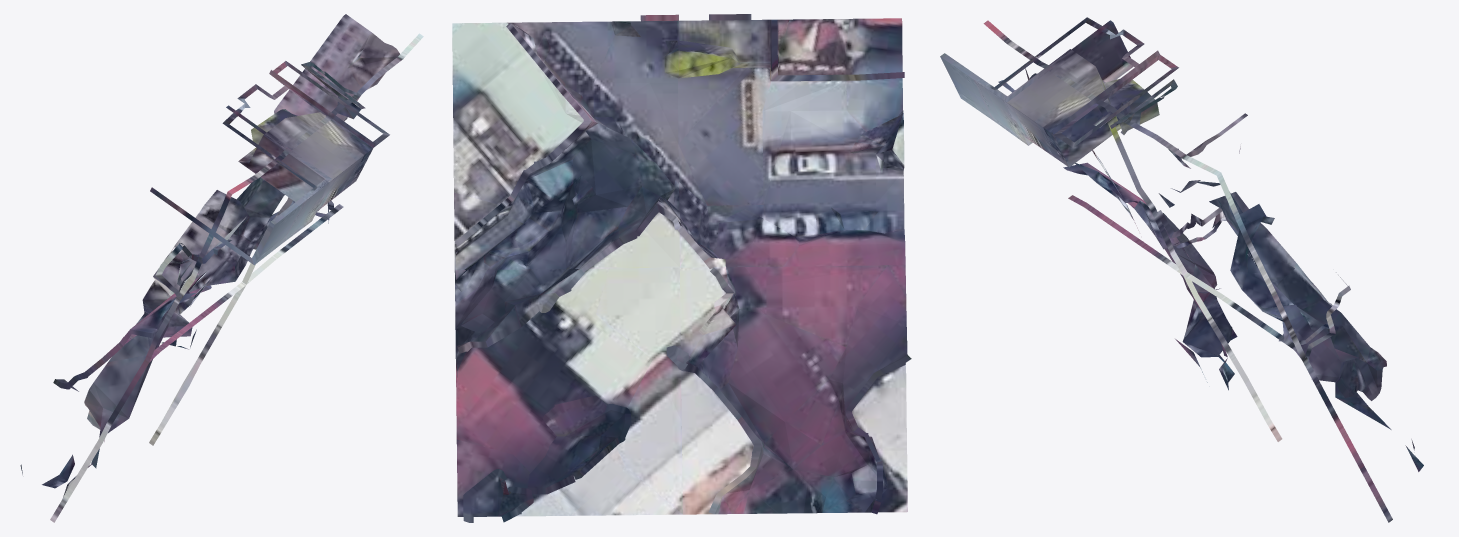
3 renders of one model, left to right at view 1: azimuth 30°, elevation 25°; view 2: azimuth 150°, elevation 25°; view 3: azimuth 270°, elevation 25°, orthographic. The views are drawn at different scales.
Size of the model in its own units: 38.73 by 37.38 by 40.26.
Materials: 2 (2 with a texture image).
